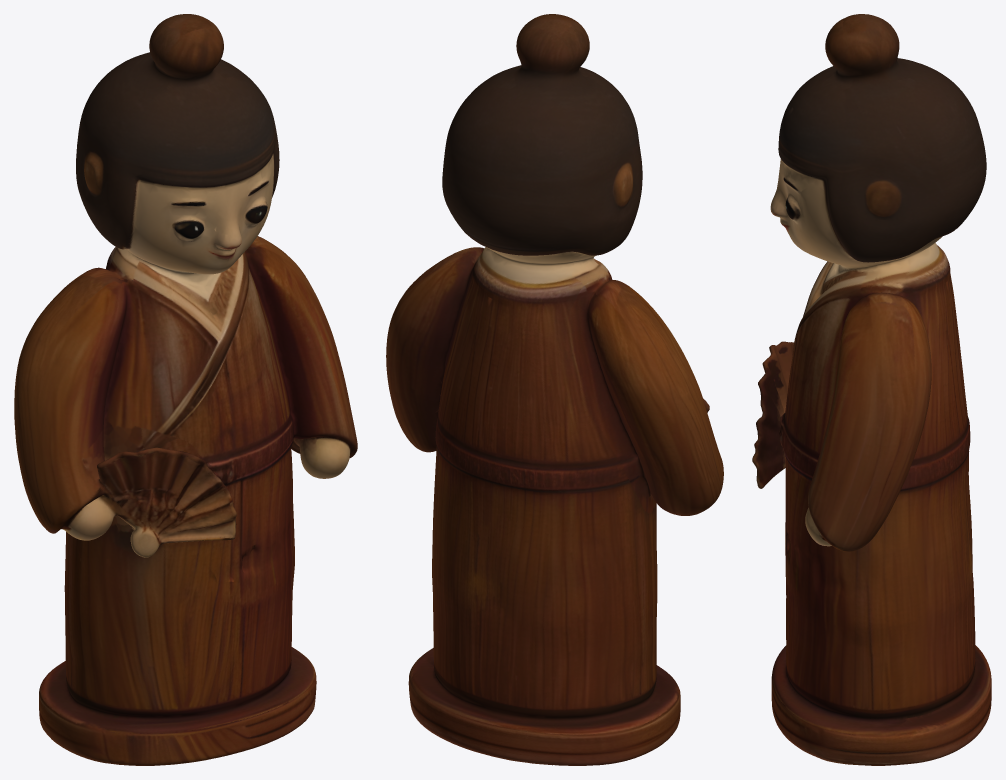
File: romantex_10.glb
3 renders of one model, left to right at view 1: azimuth 30°, elevation 25°; view 2: azimuth 150°, elevation 25°; view 3: azimuth 270°, elevation 25°, orthographic.
Visible parts, largest first — view 1: texture_v130_hdr_21w_pbr_dino_11w.001; view 2: texture_v130_hdr_21w_pbr_dino_11w.001; view 3: texture_v130_hdr_21w_pbr_dino_11w.001.
Part boxes in pixels (x1=…): texture_v130_hdr_21w_pbr_dino_11w.001: x1=14, y1=14, x2=357, y2=765; texture_v130_hdr_21w_pbr_dino_11w.001: x1=386, y1=14, x2=723, y2=765; texture_v130_hdr_21w_pbr_dino_11w.001: x1=752, y1=14, x2=991, y2=765.
Bounding box in the file's own units: 0.9409 × 2 × 0.6273.
Materials: 1 (1 with a texture image).
